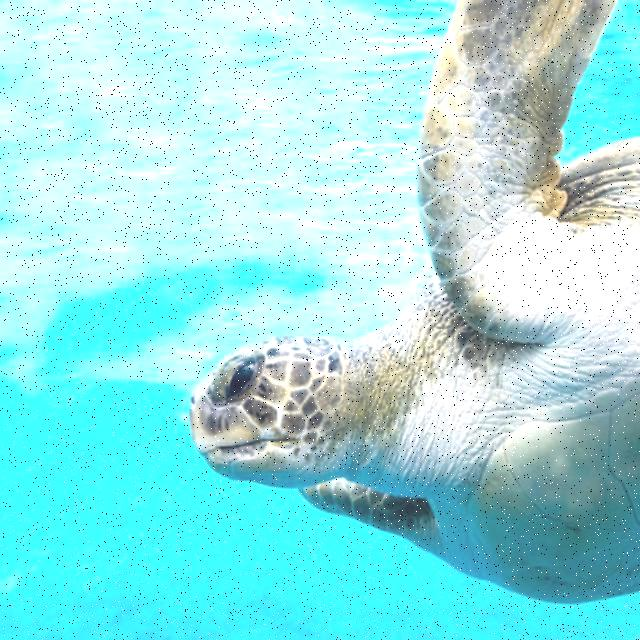tortoise: (158, 0, 640, 618)
